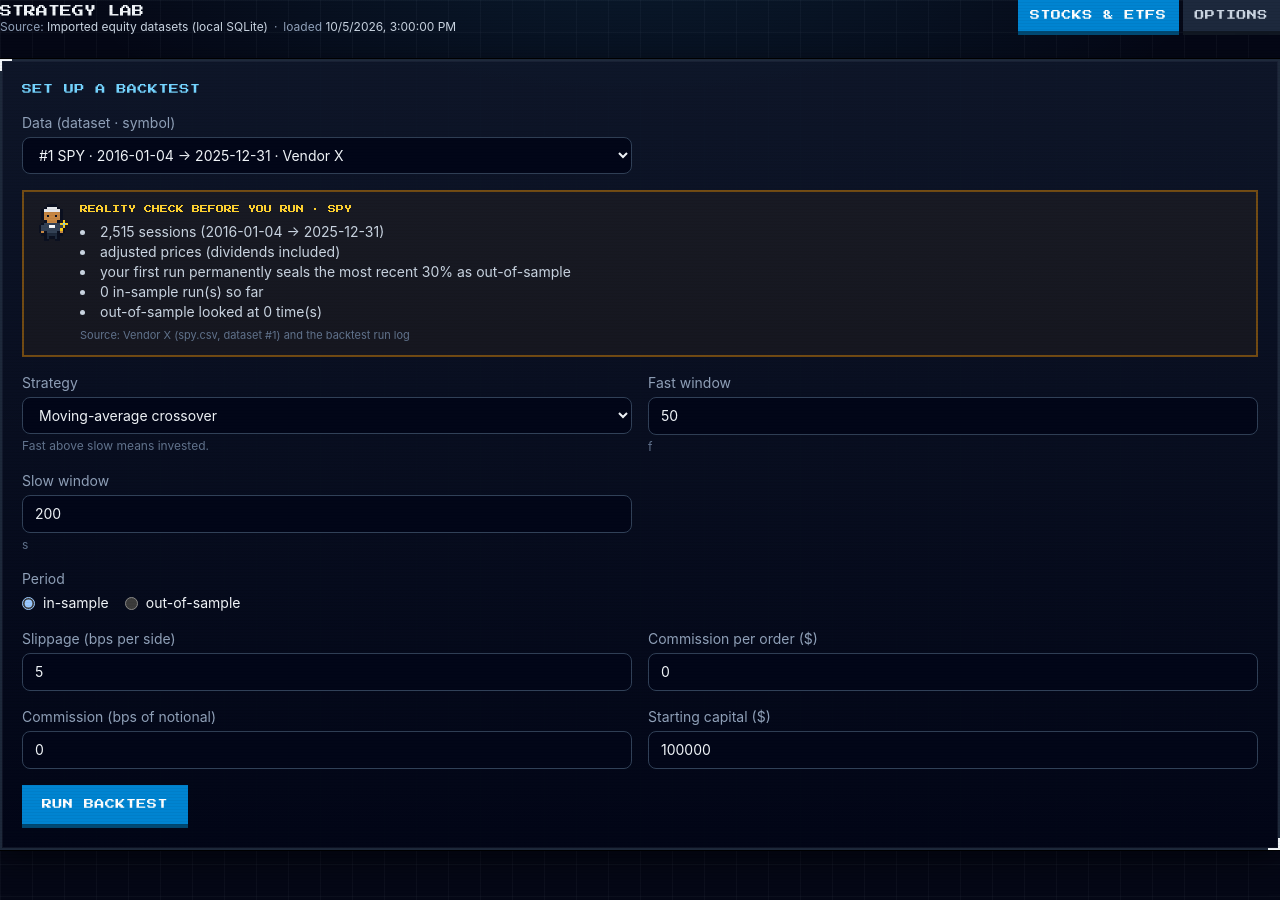
Test case: Options lab › runs and shows the reality check first, mechanics counts, positions and events
The image size is (1280, 900).
Click the tab "Options" at (1231, 18), box [1182,0,1279,35]
(page scrolled)
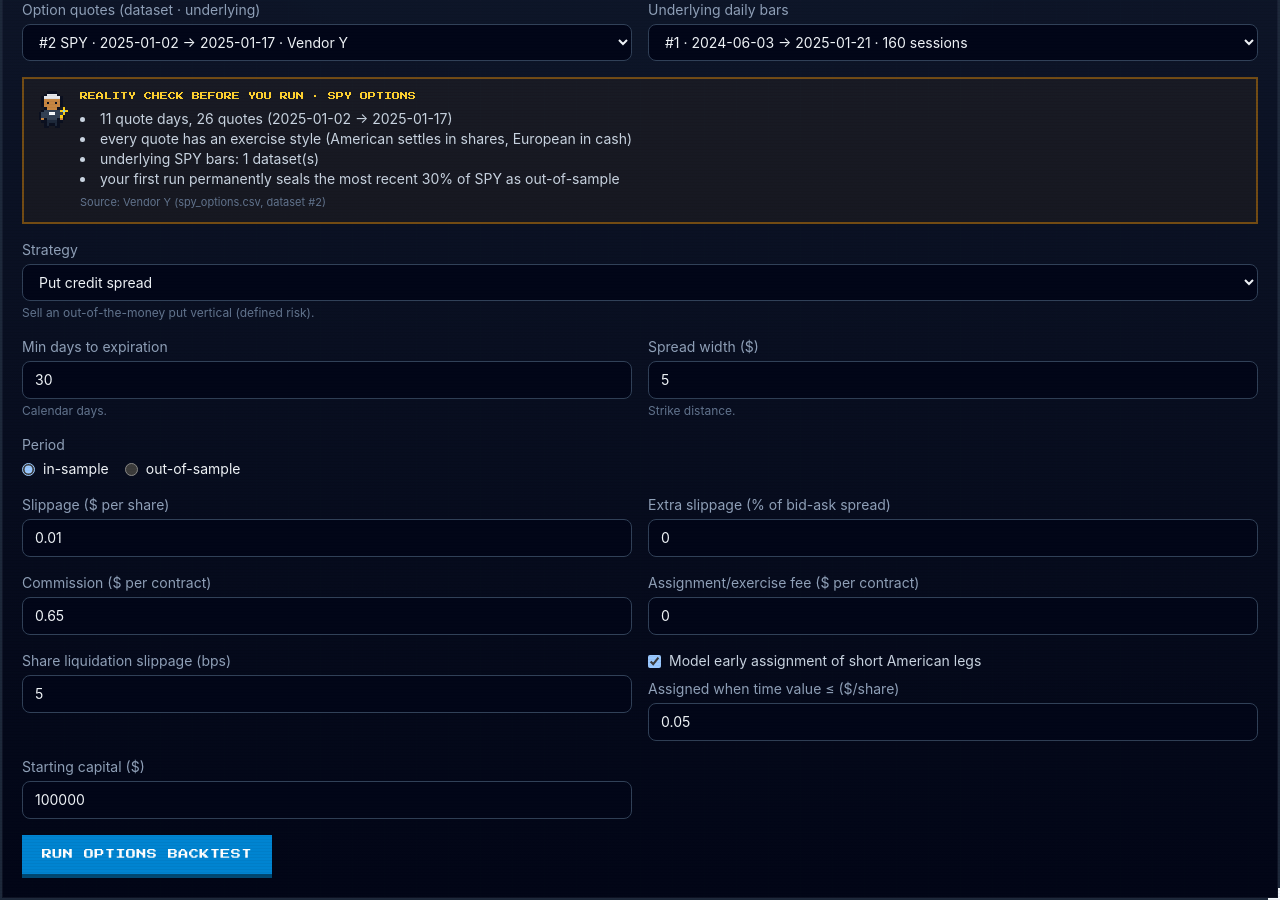
Click the button "Run options backtest" at (147, 857), box [22,835,272,878]
(page scrolled)
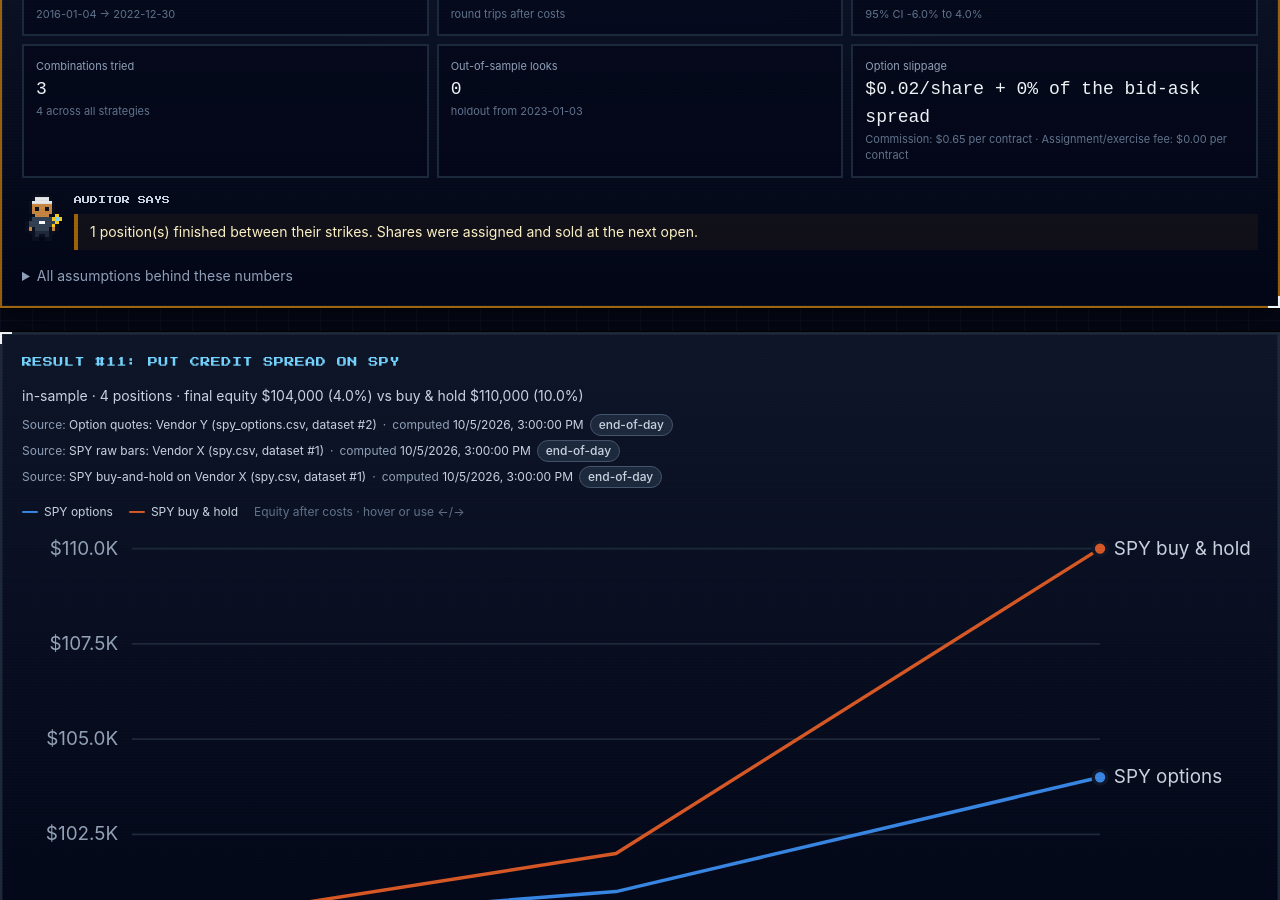
Expected: the text "Option slippage" is shown 2 times
Expected: the list item "finished between their strikes" is shown, [90,223,698,240]
Expected: the text "SPY raw bars: Vendor X (spy.csv, dataset #1)" is shown, [69,443,324,458]
